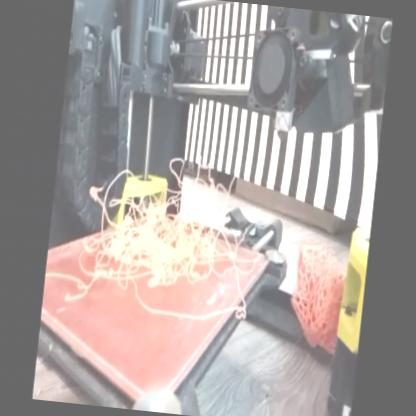fail: (79, 195, 243, 313)
